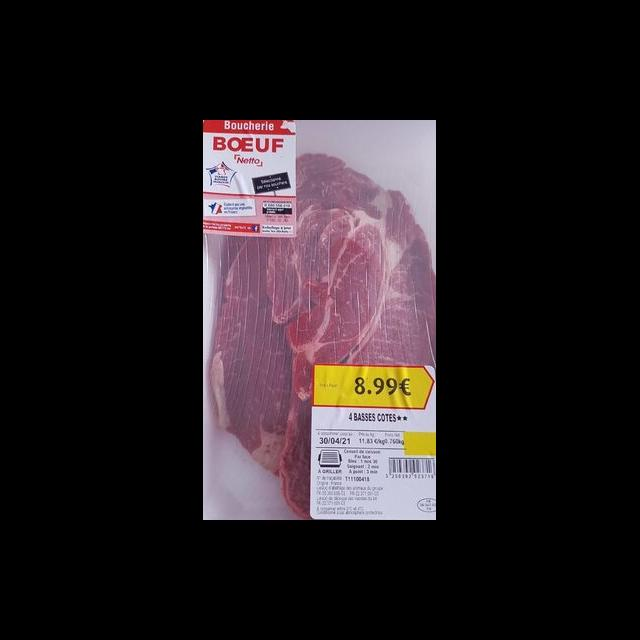beef: (278, 208, 436, 361), (218, 237, 296, 474)
